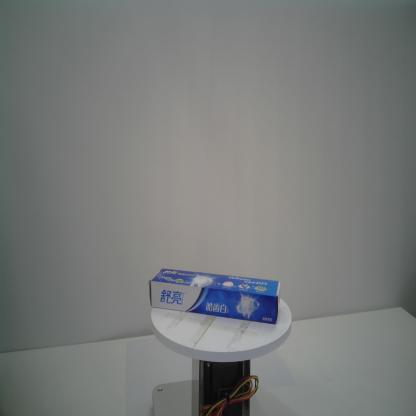Personal Hygiene: (147, 267, 282, 325)
